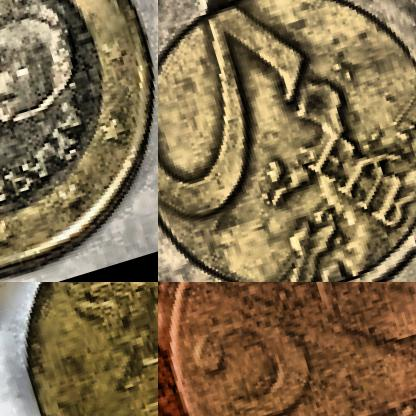coin: (158, 0, 415, 281), (0, 0, 157, 281), (158, 282, 415, 415), (0, 282, 157, 415)
